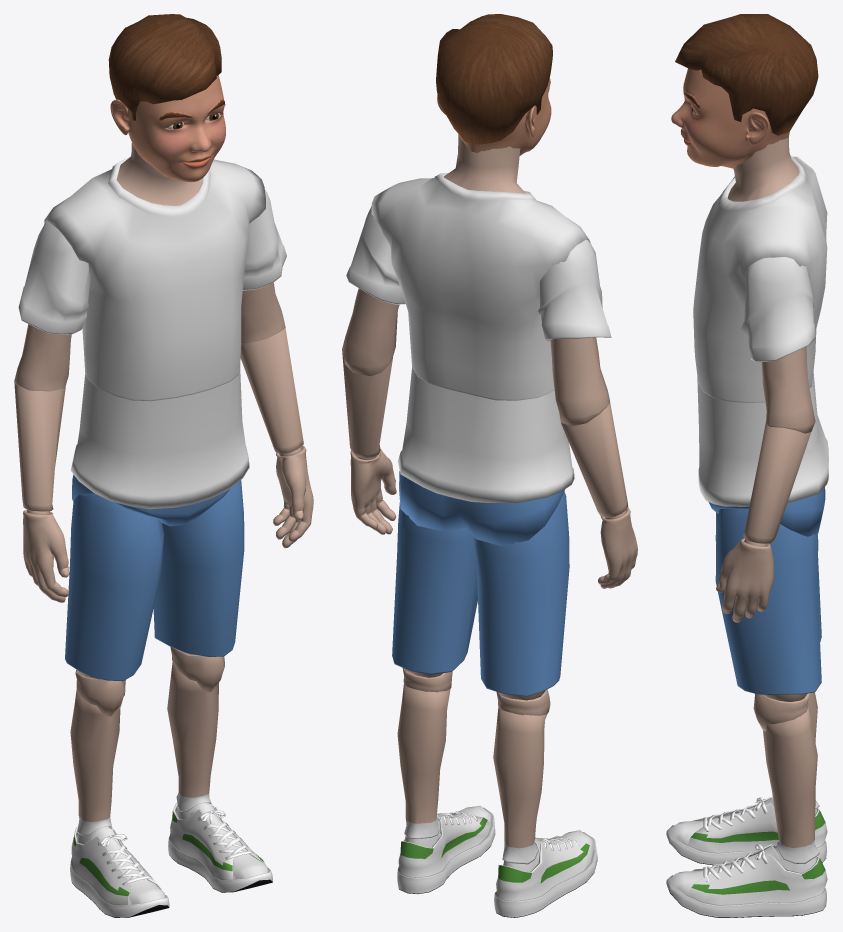
Rendered from sweethome3d-scopia-mannequin-boy.glb.
3 views of the same model, side by side, from view 1: azimuth 30°, elevation 25°; view 2: azimuth 150°, elevation 25°; view 3: azimuth 270°, elevation 25° (orthographic).
Parts seen in each view (by area): view 1: sweethome3d_mannequin_chest_chest, sweethome3d_mannequin_pelvis_shirt_pelvis, sweethome3d_mannequin_head_head, sweethome3d_mannequin_right_thigh_rightThigh, sweethome3d_mannequin_left_thigh_leftThigh, sweethome3d_mannequin_right_arm_rightArm, sweethome3d_mannequin_right_foot_rightFoot, sweethome3d_mannequin_left_foot_leftFoot, sweethome3d_mannequin_left_leg_leftLeg, sweethome3d_mannequin_right_leg_rightLeg, sweethome3d_mannequin_right_forearm_rightForearm, sweethome3d_mannequin_left_forearm_leftForearm (+6 smaller); view 2: sweethome3d_mannequin_chest_chest, sweethome3d_mannequin_pelvis_shirt_pelvis, sweethome3d_mannequin_right_thigh_rightThigh, sweethome3d_mannequin_head_head, sweethome3d_mannequin_left_thigh_leftThigh, sweethome3d_mannequin_right_arm_rightArm, sweethome3d_mannequin_left_arm_leftArm, sweethome3d_mannequin_right_leg_rightLeg, sweethome3d_mannequin_left_leg_leftLeg, sweethome3d_mannequin_pelvis_pelvis, sweethome3d_mannequin_right_foot_rightFoot, sweethome3d_mannequin_left_foot_leftFoot (+6 smaller); view 3: sweethome3d_mannequin_chest_chest, sweethome3d_mannequin_head_head, sweethome3d_mannequin_left_thigh_leftThigh, sweethome3d_mannequin_left_arm_leftArm, sweethome3d_mannequin_pelvis_shirt_pelvis, sweethome3d_mannequin_left_foot_leftFoot, sweethome3d_mannequin_left_leg_leftLeg, sweethome3d_mannequin_right_foot_rightFoot, sweethome3d_mannequin_left_forearm_leftForearm, sweethome3d_mannequin_left_hand_leftHand, sweethome3d_mannequin_pelvis_pelvis, sweethome3d_mannequin_left_knee_leftKnee.
Boxes of the visible parts, left/top/right/bottom form: sweethome3d_mannequin_chest_chest: left=44, top=143, right=265, bottom=401; sweethome3d_mannequin_pelvis_shirt_pelvis: left=70, top=366, right=249, bottom=509; sweethome3d_mannequin_head_head: left=108, top=14, right=225, bottom=182; sweethome3d_mannequin_right_thigh_rightThigh: left=65, top=494, right=164, bottom=681; sweethome3d_mannequin_left_thigh_leftThigh: left=153, top=480, right=244, bottom=656; sweethome3d_mannequin_right_arm_rightArm: left=14, top=220, right=90, bottom=391; sweethome3d_mannequin_right_foot_rightFoot: left=70, top=826, right=169, bottom=917; sweethome3d_mannequin_left_foot_leftFoot: left=168, top=802, right=272, bottom=892; sweethome3d_mannequin_left_leg_leftLeg: left=167, top=662, right=218, bottom=812; sweethome3d_mannequin_right_leg_rightLeg: left=70, top=690, right=123, bottom=835; sweethome3d_mannequin_right_forearm_rightForearm: left=14, top=384, right=65, bottom=511; sweethome3d_mannequin_left_forearm_leftForearm: left=240, top=328, right=303, bottom=453; sweethome3d_mannequin_chest_chest: left=371, top=134, right=590, bottom=400; sweethome3d_mannequin_pelvis_shirt_pelvis: left=397, top=367, right=574, bottom=502; sweethome3d_mannequin_right_thigh_rightThigh: left=474, top=491, right=569, bottom=700; sweethome3d_mannequin_head_head: left=436, top=14, right=552, bottom=155; sweethome3d_mannequin_left_thigh_leftThigh: left=392, top=502, right=477, bottom=677; sweethome3d_mannequin_right_arm_rightArm: left=538, top=239, right=611, bottom=426; sweethome3d_mannequin_left_arm_leftArm: left=342, top=206, right=405, bottom=376; sweethome3d_mannequin_right_leg_rightLeg: left=493, top=707, right=547, bottom=864; sweethome3d_mannequin_left_leg_leftLeg: left=397, top=684, right=450, bottom=838; sweethome3d_mannequin_pelvis_pelvis: left=399, top=471, right=564, bottom=546; sweethome3d_mannequin_right_foot_rightFoot: left=494, top=830, right=597, bottom=917; sweethome3d_mannequin_left_foot_leftFoot: left=397, top=805, right=495, bottom=894; sweethome3d_mannequin_chest_chest: left=693, top=137, right=827, bottom=402; sweethome3d_mannequin_head_head: left=671, top=14, right=818, bottom=168; sweethome3d_mannequin_left_thigh_leftThigh: left=715, top=509, right=821, bottom=701; sweethome3d_mannequin_left_arm_leftArm: left=740, top=257, right=815, bottom=433; sweethome3d_mannequin_pelvis_shirt_pelvis: left=697, top=372, right=828, bottom=506; sweethome3d_mannequin_left_foot_leftFoot: left=666, top=843, right=827, bottom=917; sweethome3d_mannequin_left_leg_leftLeg: left=763, top=707, right=819, bottom=864; sweethome3d_mannequin_right_foot_rightFoot: left=666, top=796, right=827, bottom=865; sweethome3d_mannequin_left_forearm_leftForearm: left=743, top=422, right=811, bottom=543; sweethome3d_mannequin_left_hand_leftHand: left=716, top=538, right=773, bottom=622; sweethome3d_mannequin_pelvis_pelvis: left=708, top=487, right=825, bottom=536; sweethome3d_mannequin_left_knee_leftKnee: left=753, top=693, right=810, bottom=731.
Bounding box in the file's own units: 53.92 × 160 × 27.3.
59 materials, 9 textured.
